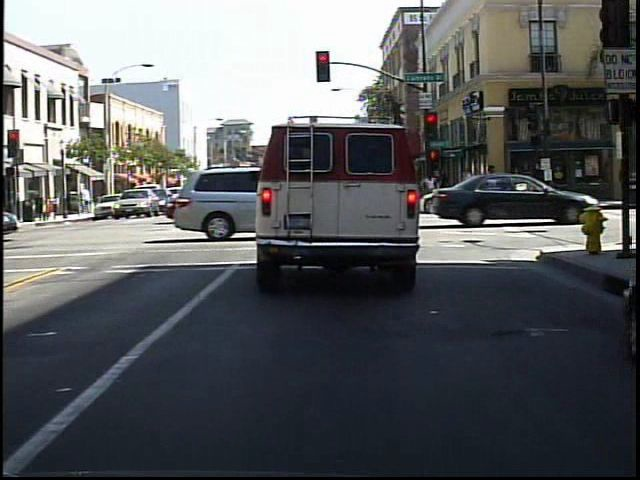person: (528, 158, 548, 208), (508, 163, 528, 207)
